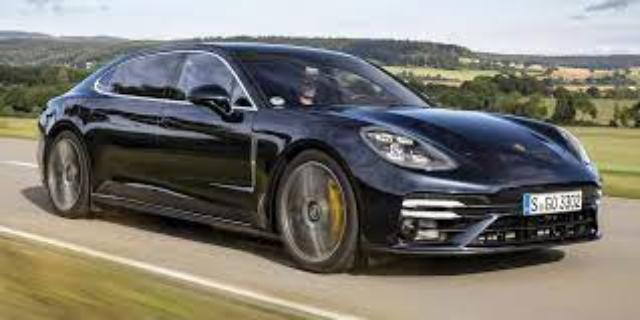porsche: (35, 42, 602, 272)
